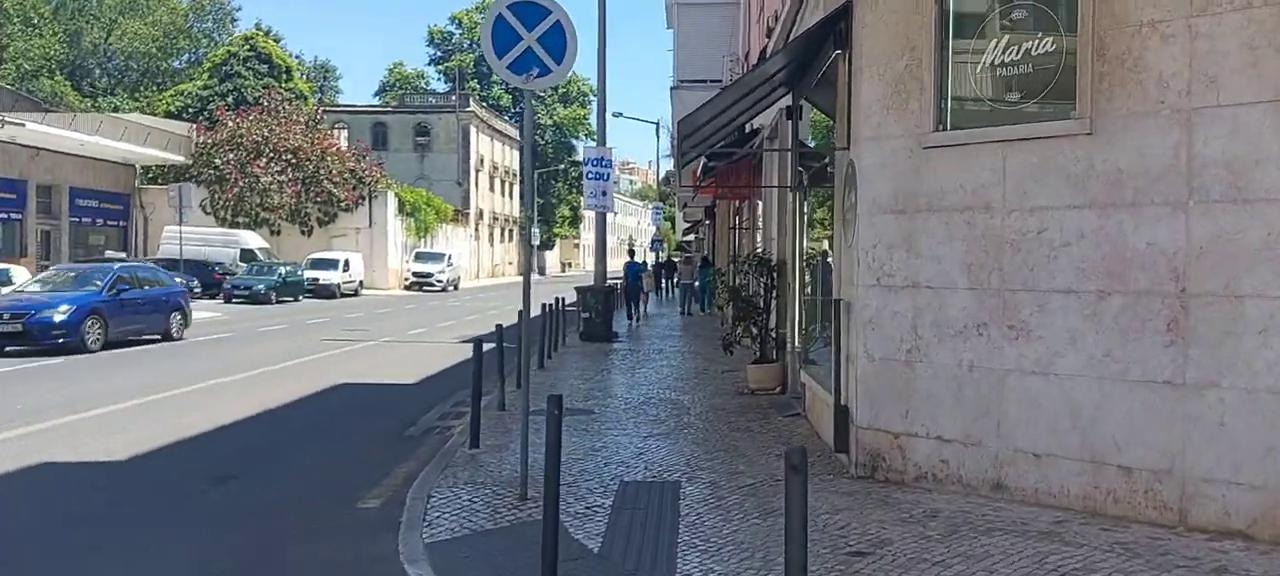paragem e estacionamento proibido: (481, 0, 577, 87)
